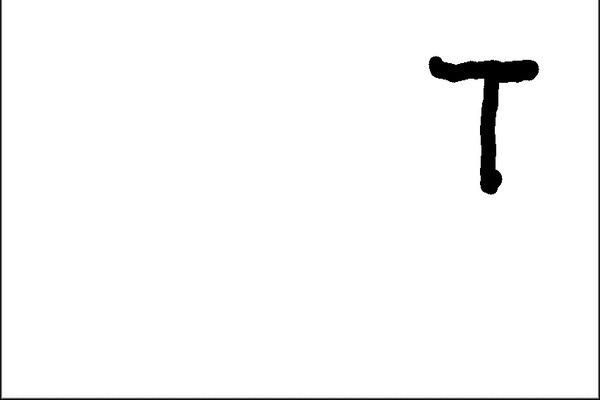T: (427, 45, 551, 200)
